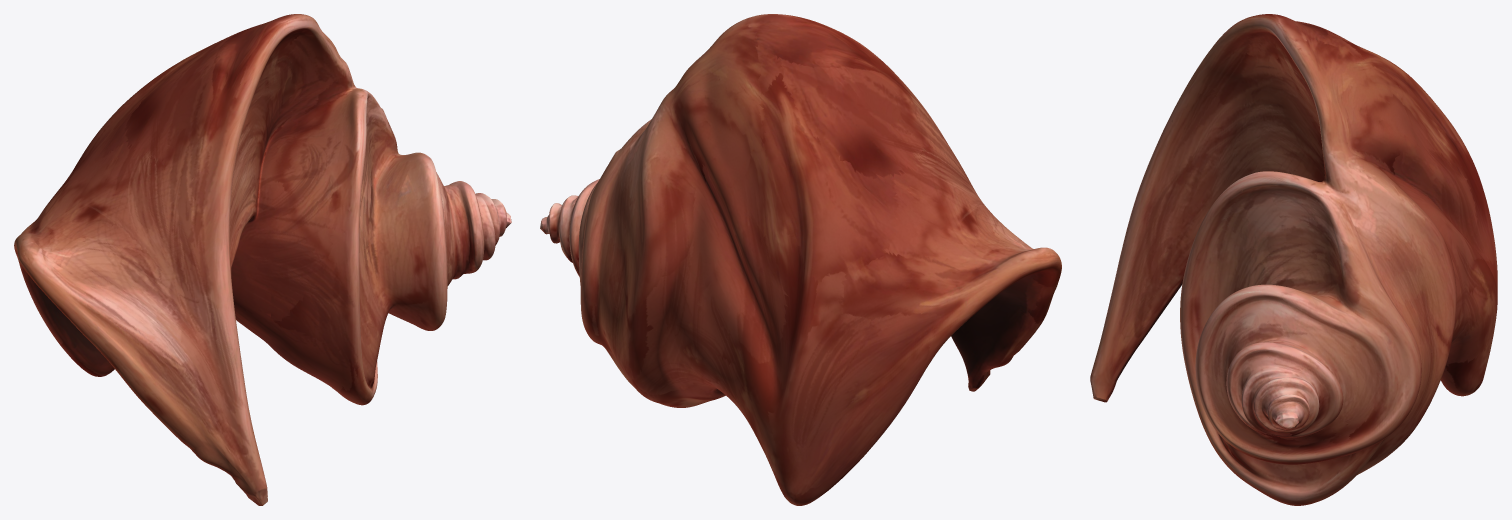
Rendered from red-conch.glb.
The picture shows the model from 3 angles, left to right: view 1: azimuth 30°, elevation 25°; view 2: azimuth 150°, elevation 25°; view 3: azimuth 270°, elevation 25°; orthographic projection. The views are drawn at different scales.
Parts seen in each view (by area): view 1: node_0; view 2: node_0; view 3: node_0.
Part boxes in pixels (<box>): node_0: <box>14,14,511,505</box>; node_0: <box>540,14,1061,505</box>; node_0: <box>1090,14,1497,505</box>.
Bounding box in the file's own units: 1.55 × 1.2 × 1.01.
Materials: 1 (1 with a texture image).
